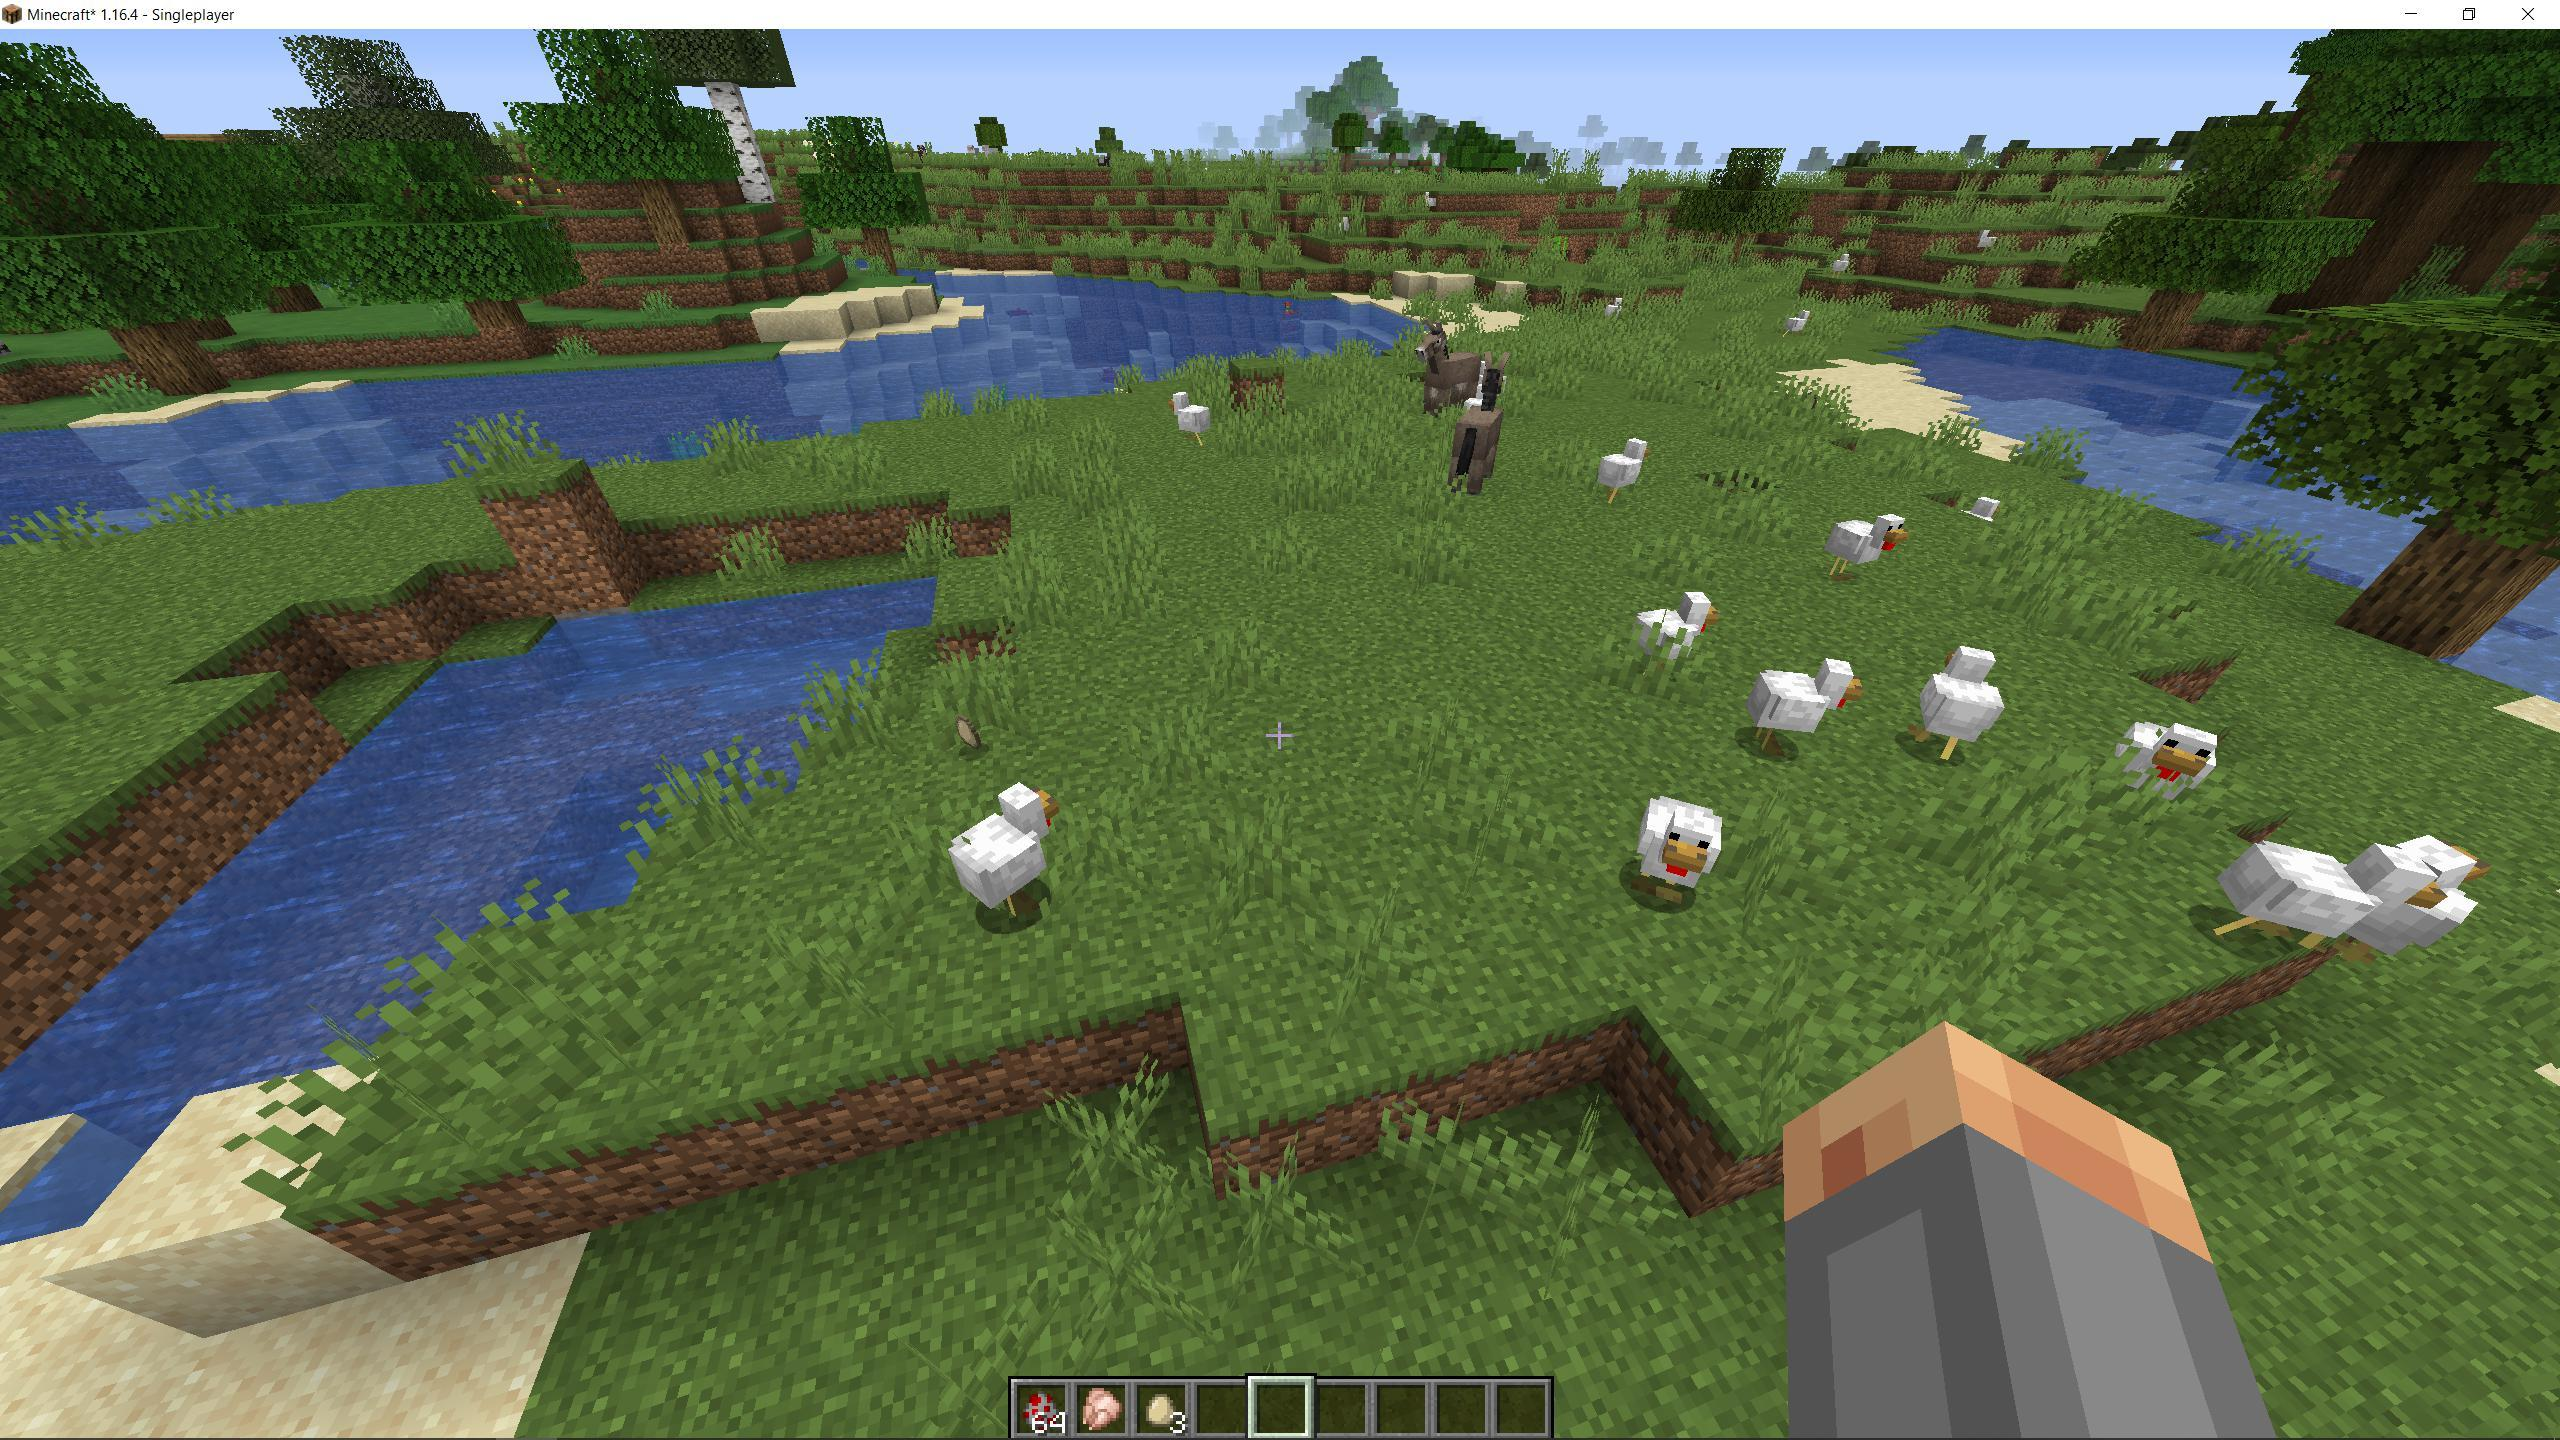chicken: (2207, 832, 2426, 965), (953, 784, 1060, 928), (1904, 635, 2011, 768), (1739, 651, 1865, 761), (1628, 789, 1730, 909), (2103, 717, 2222, 804)
